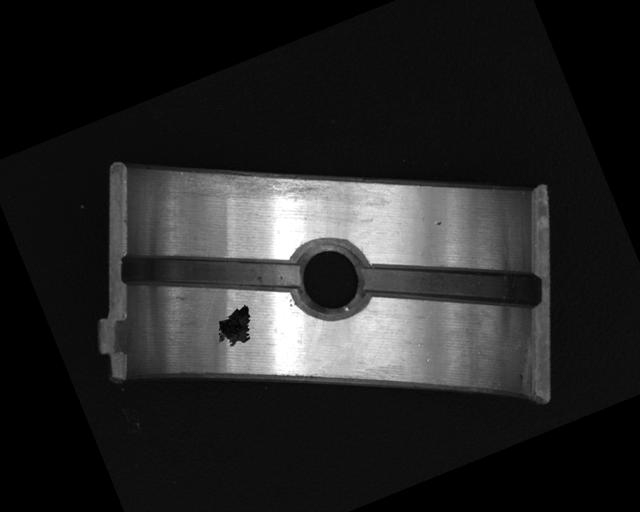blot: (207, 301, 262, 352)
bruise: (432, 217, 444, 228)
gap: (358, 209, 545, 360), (115, 199, 303, 344)
hole: (280, 229, 380, 331)
scratch: (173, 116, 341, 243)
